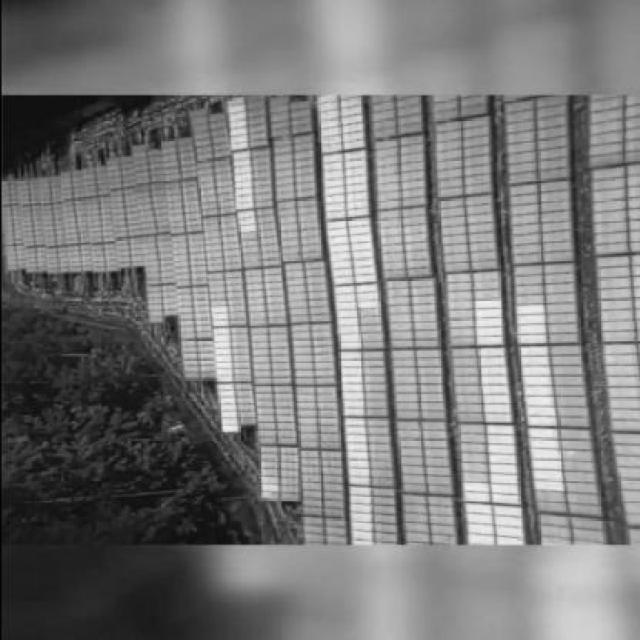diode: (530, 481, 564, 492), (466, 532, 494, 543), (528, 470, 562, 479), (489, 482, 516, 493), (466, 522, 492, 533), (492, 496, 520, 506), (487, 452, 515, 462), (476, 346, 504, 356), (515, 322, 543, 332), (520, 374, 551, 383), (480, 373, 505, 384), (526, 414, 556, 423), (518, 332, 545, 342), (495, 516, 519, 527), (497, 528, 523, 538), (493, 506, 519, 516), (463, 502, 489, 512), (490, 472, 516, 482), (460, 481, 488, 490), (462, 491, 489, 500), (464, 512, 488, 522), (478, 354, 502, 364), (347, 528, 371, 538), (489, 463, 514, 472), (485, 411, 510, 420), (483, 402, 508, 411), (482, 383, 507, 392), (532, 459, 557, 468), (317, 142, 345, 150), (340, 372, 362, 382), (498, 538, 522, 547), (485, 433, 509, 442), (475, 297, 499, 306), (524, 384, 548, 393), (522, 354, 546, 363), (347, 213, 365, 225), (484, 392, 505, 402), (516, 305, 542, 313), (525, 405, 550, 413), (345, 474, 367, 483), (332, 274, 354, 283), (330, 257, 352, 266), (325, 218, 347, 227), (530, 449, 558, 456), (477, 335, 501, 343), (475, 316, 499, 324), (521, 346, 545, 354), (259, 476, 278, 486), (484, 424, 511, 431), (338, 351, 359, 360), (342, 119, 363, 128), (480, 365, 503, 373), (476, 325, 498, 333), (475, 307, 497, 315), (346, 503, 368, 511), (340, 382, 362, 390), (346, 233, 368, 241), (530, 438, 555, 445), (523, 365, 548, 372), (343, 398, 362, 407), (348, 224, 367, 233), (319, 108, 338, 117), (354, 290, 375, 298), (327, 227, 348, 235), (321, 160, 339, 169), (345, 164, 363, 173), (347, 147, 365, 156), (320, 123, 338, 132), (341, 103, 359, 112), (487, 444, 510, 451), (518, 314, 540, 321), (216, 384, 238, 391), (329, 268, 351, 275), (356, 263, 373, 272), (329, 234, 346, 243), (319, 100, 336, 109), (347, 137, 364, 146), (229, 123, 246, 132), (343, 130, 362, 138), (229, 115, 248, 123), (226, 96, 245, 104), (530, 428, 555, 434), (525, 396, 550, 402), (541, 543, 570, 548), (260, 482, 278, 490), (341, 357, 359, 365), (337, 339, 355, 347), (348, 204, 364, 213), (325, 176, 343, 184), (320, 116, 338, 124), (238, 223, 256, 231), (228, 108, 244, 117), (344, 406, 361, 414), (345, 458, 364, 465), (343, 112, 362, 119), (236, 208, 255, 215), (336, 326, 358, 332), (322, 194, 344, 200), (323, 186, 345, 192), (345, 156, 367, 162), (340, 96, 362, 102), (351, 249, 367, 257), (332, 250, 348, 258), (231, 140, 247, 148), (351, 538, 372, 544), (348, 522, 369, 528), (348, 494, 369, 500), (348, 486, 369, 492), (342, 417, 363, 423), (341, 389, 359, 396), (354, 302, 375, 308), (325, 209, 343, 216), (345, 191, 366, 197), (330, 243, 345, 251), (235, 186, 250, 194), (218, 418, 237, 424), (349, 513, 368, 519), (345, 443, 364, 449), (349, 242, 368, 248), (323, 153, 342, 159), (322, 133, 341, 139), (232, 178, 251, 184), (232, 158, 251, 164), (222, 424, 238, 431), (214, 317, 228, 325), (233, 148, 249, 155), (347, 468, 365, 474), (344, 434, 362, 440), (342, 366, 360, 372), (340, 333, 358, 339), (334, 301, 352, 307), (334, 293, 352, 299), (355, 274, 373, 280), (324, 201, 342, 207), (347, 174, 365, 180), (238, 216, 256, 222), (232, 164, 250, 170), (232, 172, 253, 177), (231, 131, 246, 138), (217, 396, 234, 402), (216, 390, 233, 396), (215, 353, 232, 359), (344, 424, 361, 430), (333, 286, 350, 292), (238, 200, 255, 206), (339, 310, 355, 316), (356, 283, 372, 289), (355, 258, 371, 264), (236, 193, 252, 199), (464, 541, 494, 544), (348, 198, 363, 204), (350, 183, 365, 189), (325, 170, 340, 176), (315, 94, 337, 98), (214, 346, 228, 352), (214, 332, 228, 338), (228, 101, 242, 107), (339, 319, 355, 324), (346, 451, 365, 455), (218, 367, 230, 373), (214, 340, 226, 346), (213, 311, 225, 317), (216, 360, 229, 365), (217, 375, 231, 379), (221, 411, 234, 415), (220, 404, 232, 408), (210, 306, 225, 309), (212, 328, 230, 330)
hotspot: (260, 493, 266, 496)
